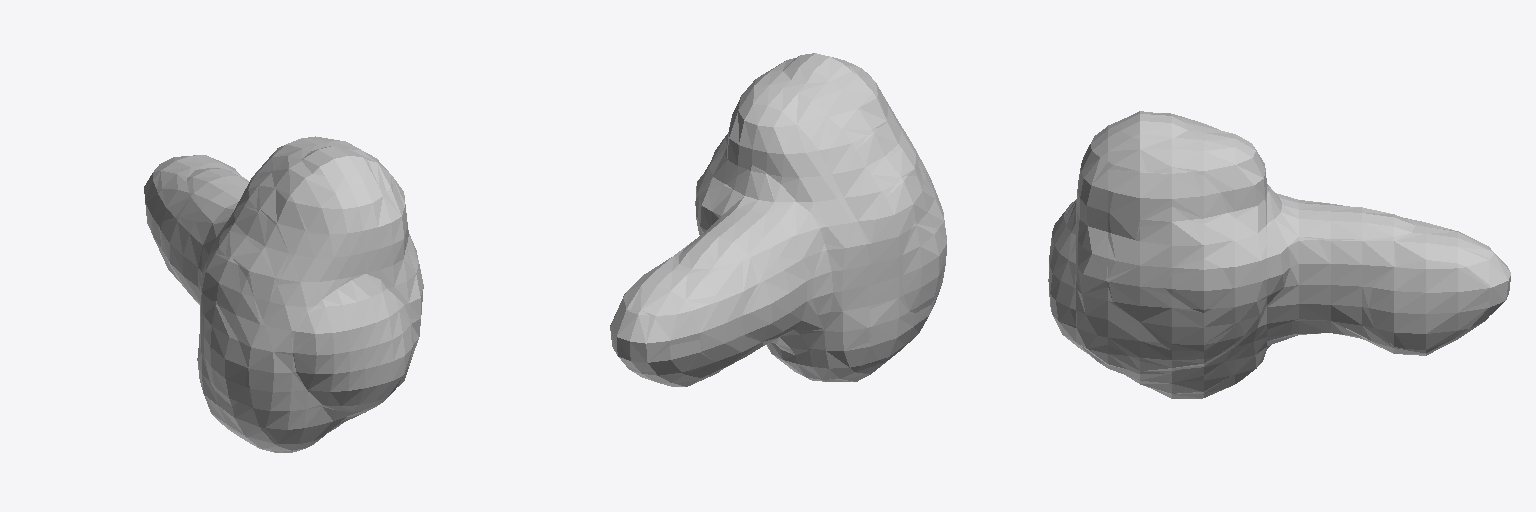
Rendered from 1usp_aligned_cms.obj.
3 renders of one model, left to right at view 1: azimuth 30°, elevation 25°; view 2: azimuth 150°, elevation 25°; view 3: azimuth 270°, elevation 25°, orthographic.
Bounding box in the file's own units: 55.39 × 76.33 × 110.